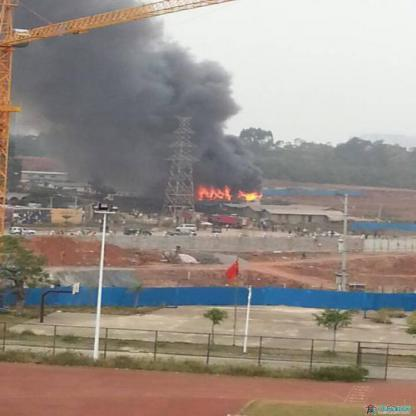fire: (183, 178, 276, 209)
smoke: (8, 3, 262, 173)
